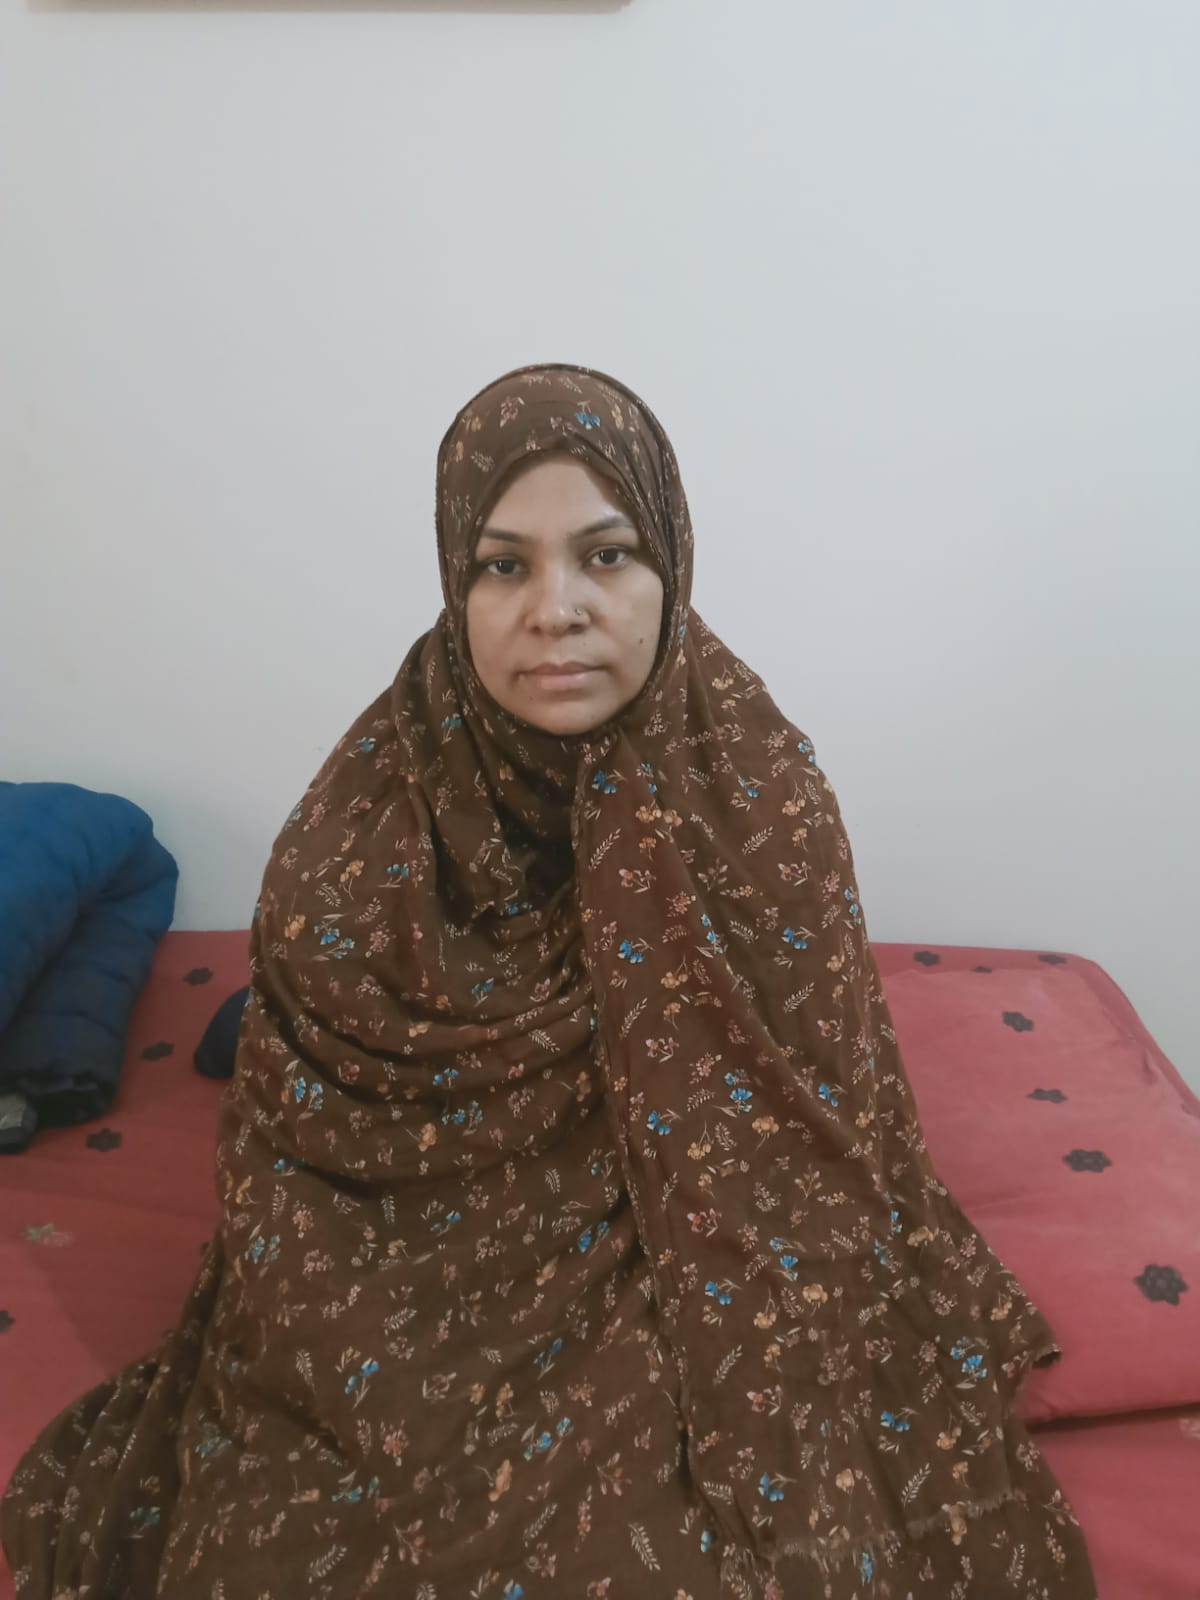NoMask: (465, 510, 658, 730)
